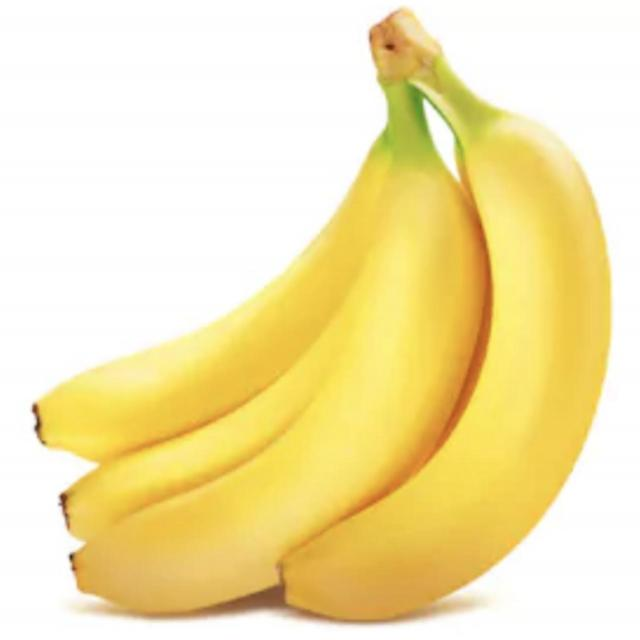banana: (46, 63, 486, 638), (284, 20, 640, 639)
